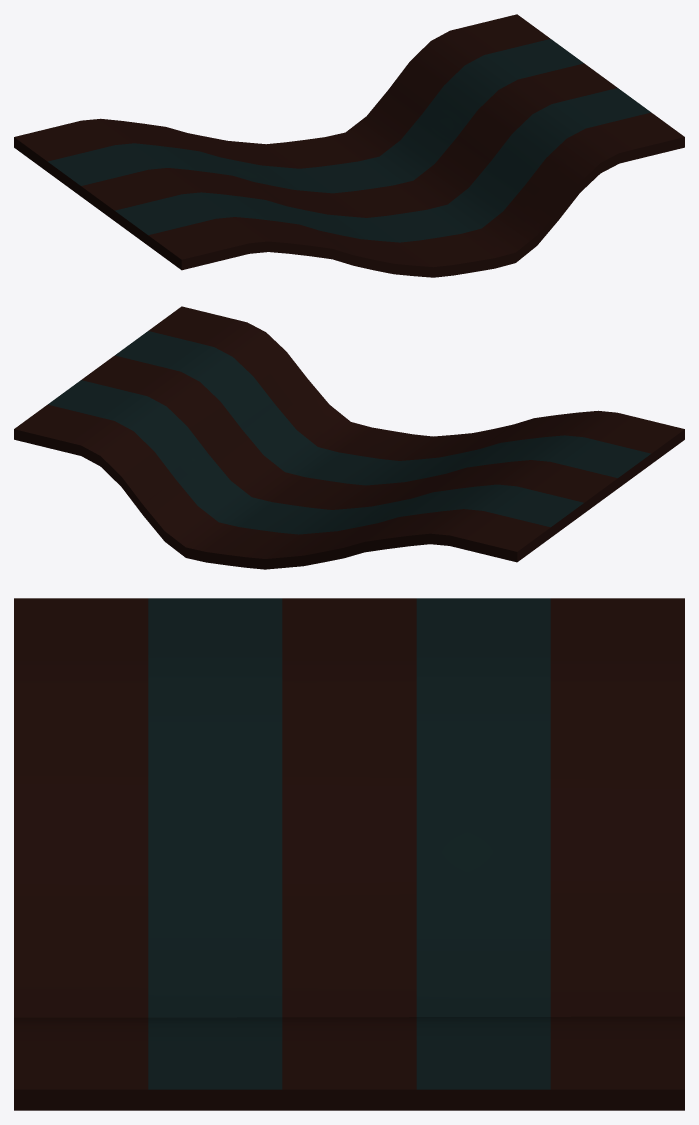
The model's file is trackstraight3.fbx.
3 renders of one model, top to bottom at view 1: azimuth 30°, elevation 25°; view 2: azimuth 150°, elevation 25°; view 3: azimuth 270°, elevation 25°, orthographic. The views are drawn at different scales.
Visible parts, largest first — view 1: straight3; view 2: straight3; view 3: straight3.
Boxes of the visible parts, x1=… form: straight3: x1=14, y1=14, x2=684, y2=277; straight3: x1=14, y1=306, x2=684, y2=569; straight3: x1=14, y1=598, x2=684, y2=1110.
Bounding box in the file's own units: 500 × 82.49 × 289.
1 material, 1 textured.
